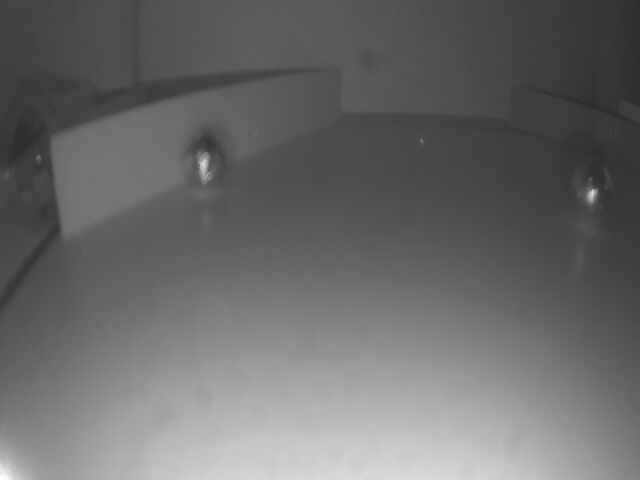Live: (569, 157, 615, 226), (180, 138, 228, 190)
Point: (59, 71, 342, 241), (513, 86, 640, 172)
